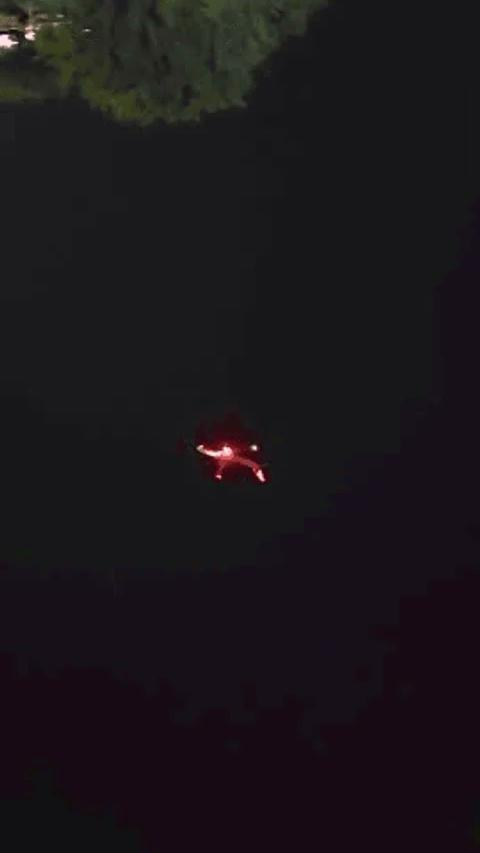Plane: (166, 385, 291, 522)
